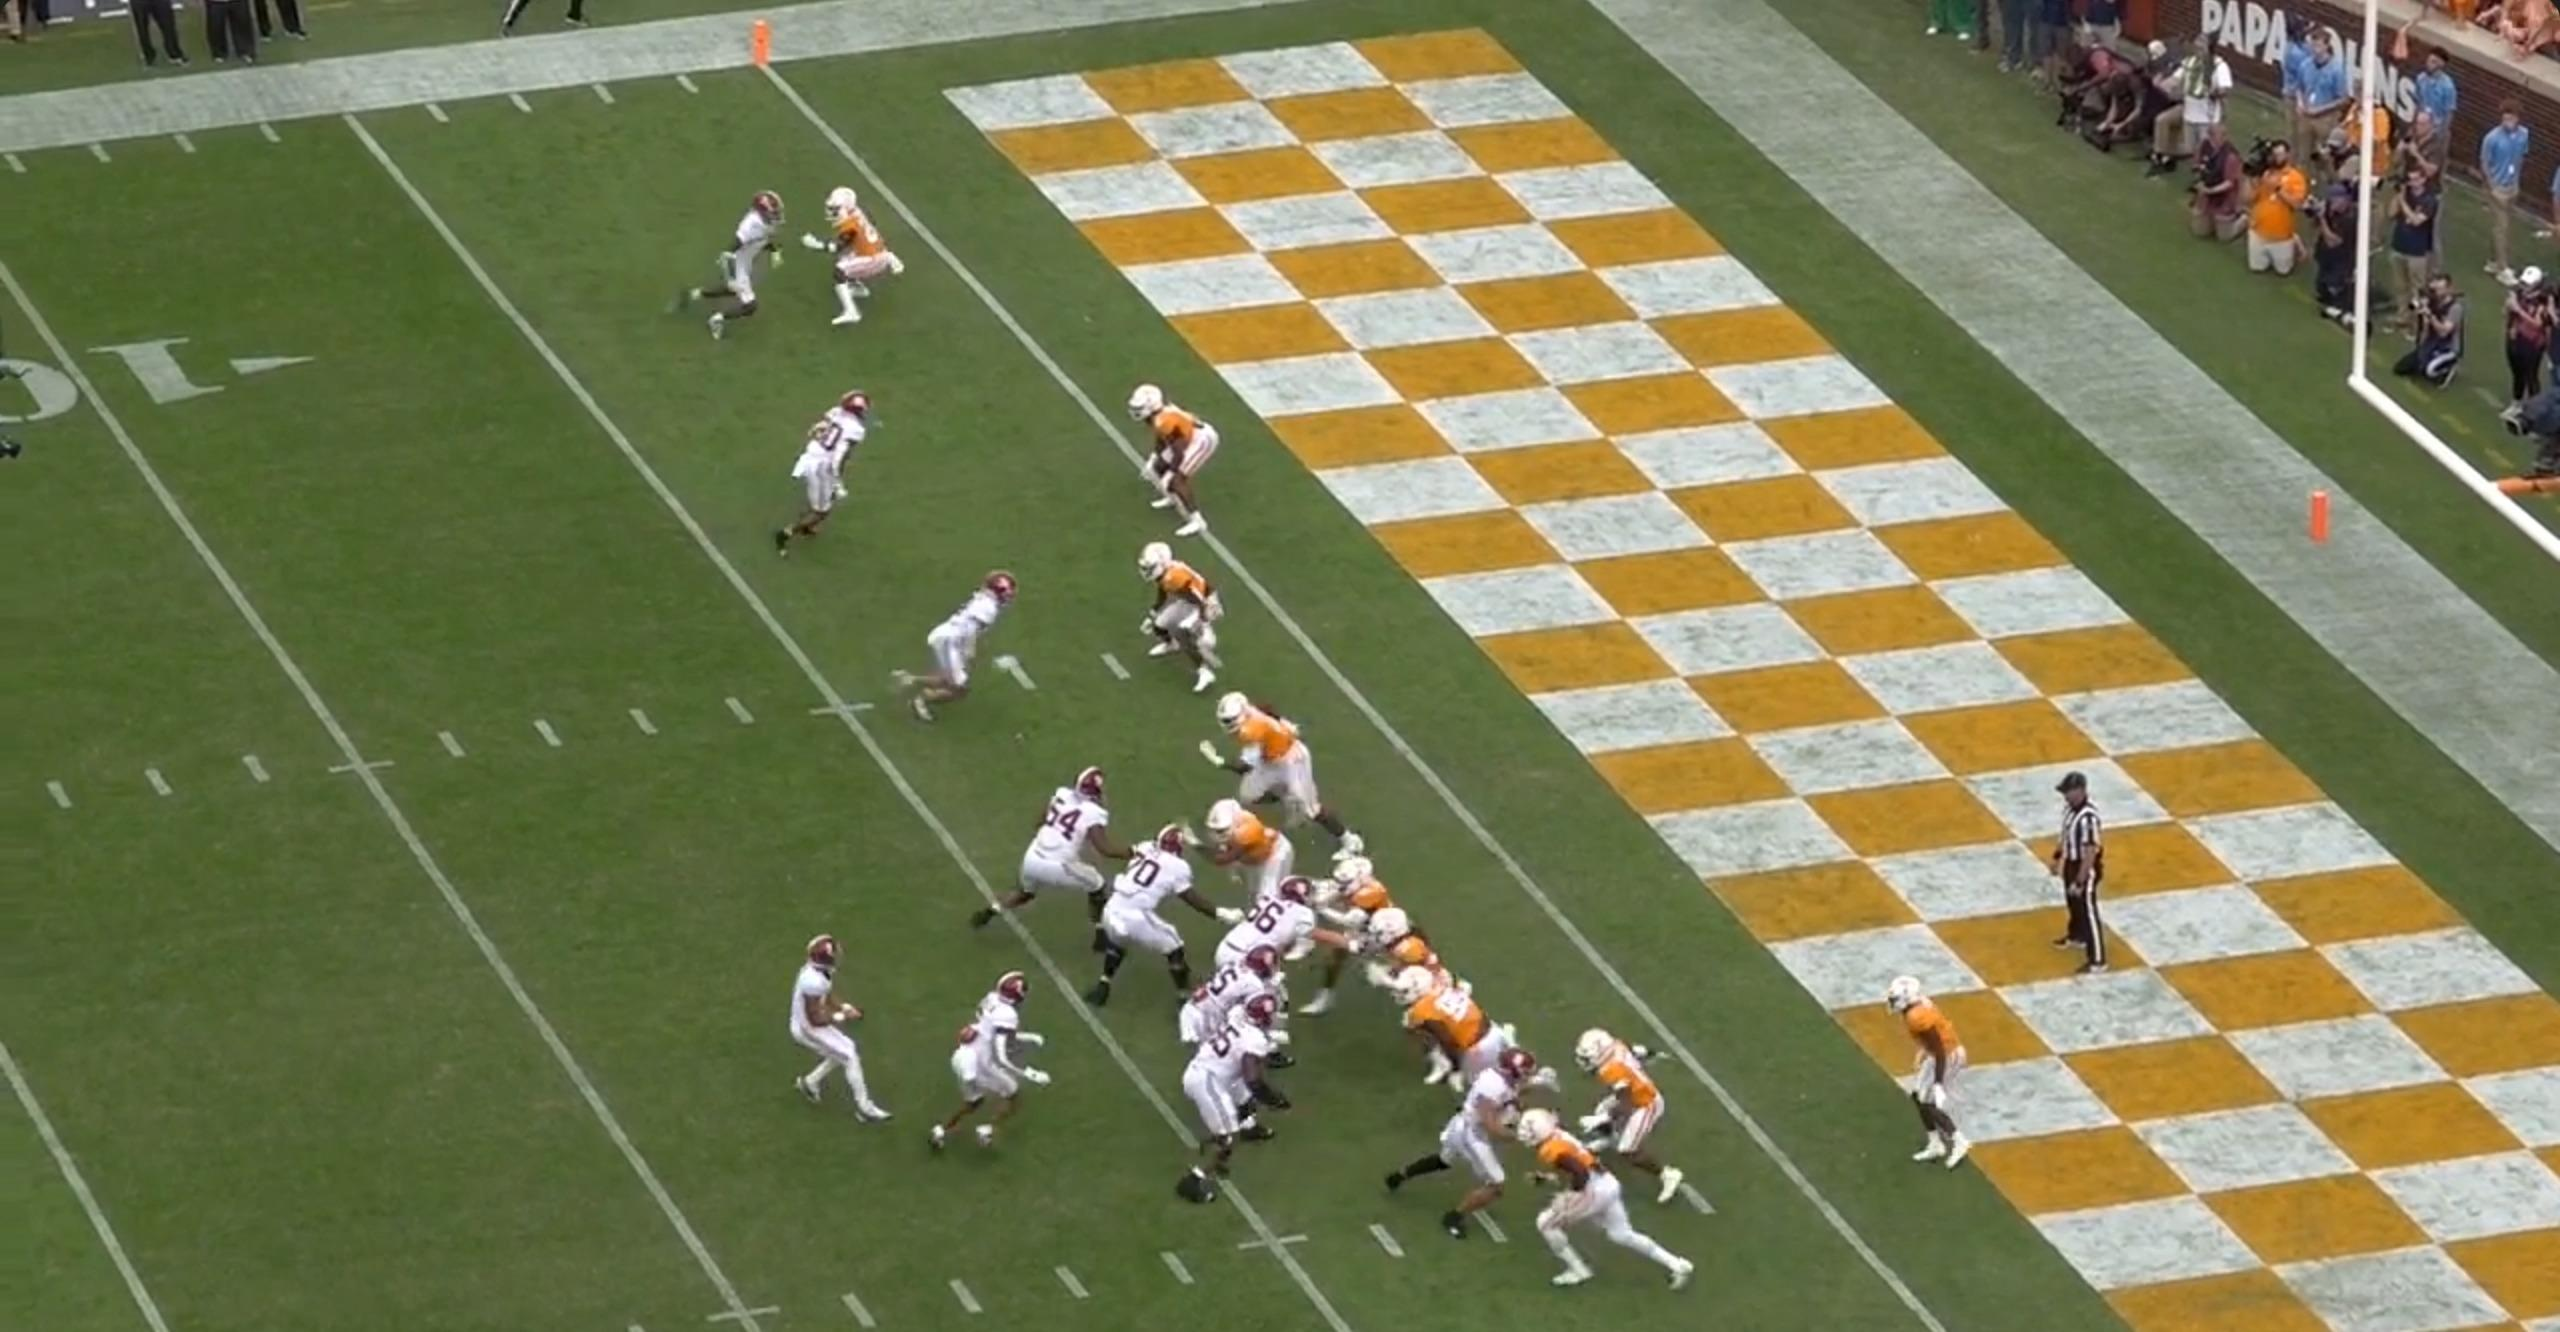defense: (1509, 1098, 1691, 1290), (1202, 689, 1365, 868), (1561, 1017, 1683, 1203), (1883, 971, 1981, 1180), (1397, 966, 1524, 1112), (1128, 383, 1229, 543), (1307, 855, 1402, 1021), (801, 179, 901, 337), (1136, 533, 1231, 694), (1204, 792, 1307, 921), (1366, 907, 1466, 1010)
oline: (1080, 811, 1236, 1016), (975, 770, 1126, 941), (1172, 999, 1278, 1205), (1195, 951, 1307, 1129), (1222, 873, 1334, 1036)
qb: (782, 924, 892, 1127)
ref: (2040, 768, 2113, 985)
skill: (1388, 1049, 1549, 1242), (935, 971, 1063, 1164), (889, 564, 1024, 723), (676, 190, 792, 357), (779, 388, 886, 567)
